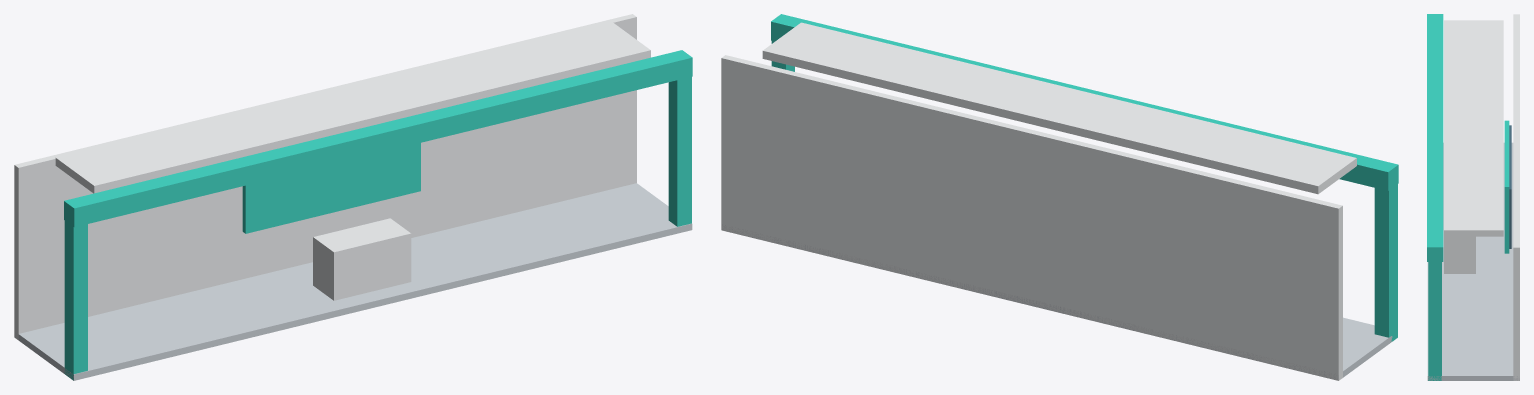
3 renders of one model, left to right at view 1: azimuth 30°, elevation 25°; view 2: azimuth 150°, elevation 25°; view 3: azimuth 270°, elevation 25°, orthographic. The views are drawn at different scales.
Visible parts, largest first — view 1: Exhibition Booth Concept; view 2: Exhibition Booth Concept; view 3: Exhibition Booth Concept.
Boxes of the visible parts, bbox=[...] form: Exhibition Booth Concept: bbox=[14, 14, 692, 380]; Exhibition Booth Concept: bbox=[721, 14, 1398, 380]; Exhibition Booth Concept: bbox=[1427, 14, 1519, 380].
Bounding box in the file's own units: 12 × 3.34 × 2.01.
